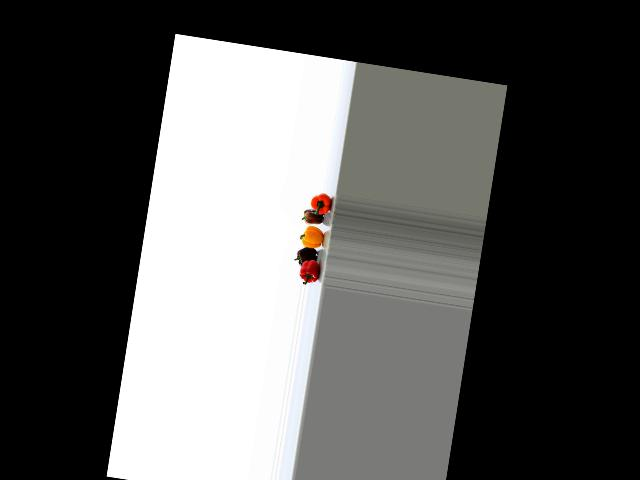bell_pepper: (302, 190, 335, 216)
